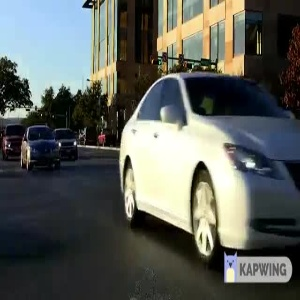car: (124, 73, 300, 274), (20, 122, 61, 175)
